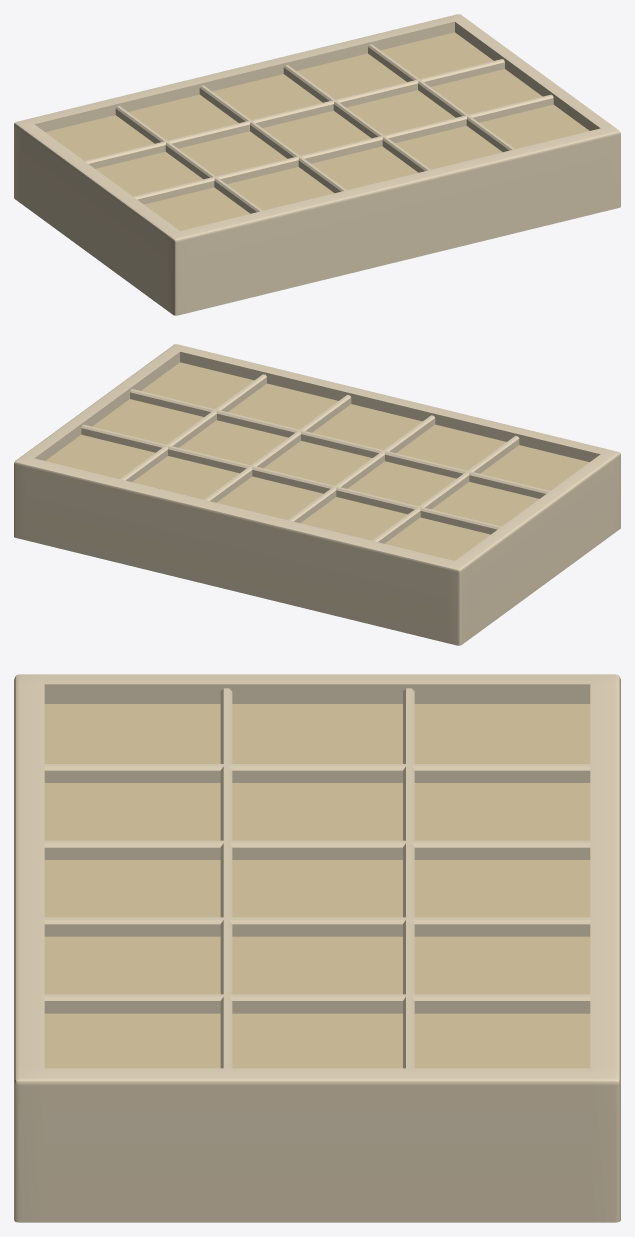
File: merge_Tablle.fbx
3 views of the same model, one above another, from view 1: azimuth 30°, elevation 25°; view 2: azimuth 150°, elevation 25°; view 3: azimuth 270°, elevation 25° (orthographic). The views are drawn at different scales.
Visible parts, largest first — view 1: Merge_Table; view 2: Merge_Table; view 3: Merge_Table.
Boxes of the visible parts, x1,y1,x2,y2 form: Merge_Table: [14, 14, 620, 315]; Merge_Table: [14, 344, 620, 645]; Merge_Table: [14, 674, 620, 1222].
Bounding box in the file's own units: 532 × 86.44 × 334.
